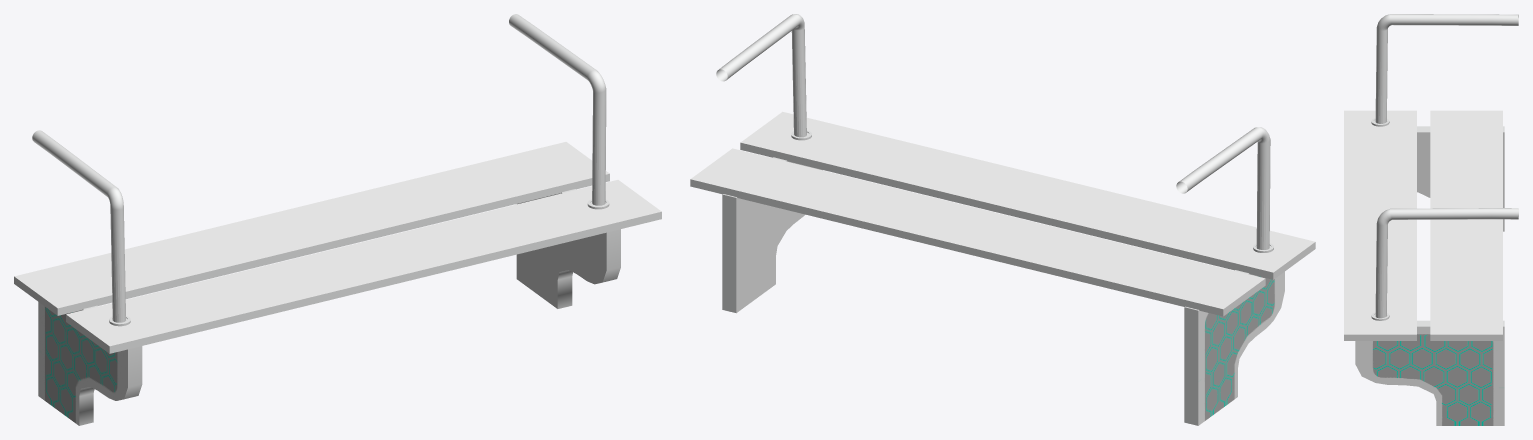
The model's file is Bench.fbx.
The picture shows the model from 3 angles, left to right: view 1: azimuth 30°, elevation 25°; view 2: azimuth 150°, elevation 25°; view 3: azimuth 270°, elevation 25°; orthographic projection. The views are drawn at different scales.
Visible parts, largest first — view 1: pCylinder4; view 2: pCylinder4; view 3: pCylinder4.
Part boxes in pixels (x1,y1,x2,y2): pCylinder4: (14,14,661,425); pCylinder4: (690,14,1315,425); pCylinder4: (1344,14,1518,425).
Bounding box in the file's own units: 4.84 × 2.15 × 1.59.
Materials: 1 (1 with a texture image).
